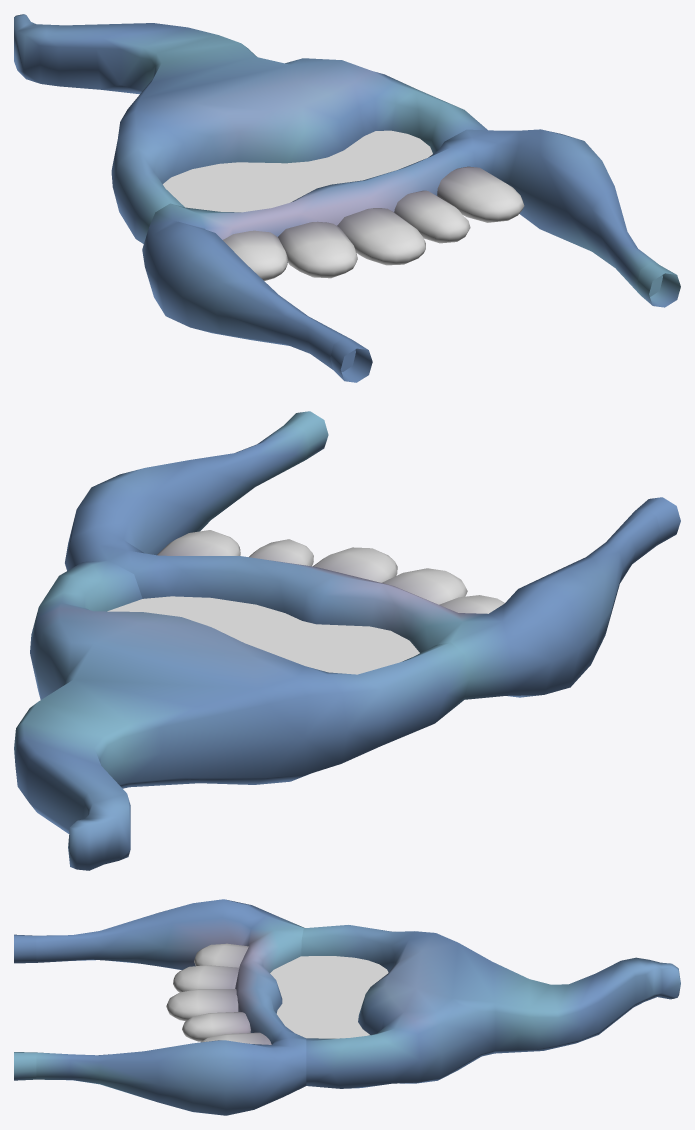
Rendered from GhostEntrance.fbx.
3 views of the same model, one above another, from view 1: azimuth 30°, elevation 25°; view 2: azimuth 150°, elevation 25°; view 3: azimuth 270°, elevation 25° (orthographic). The views are drawn at different scales.
Parts seen in each view (by area): view 1: GhostEntrance, GhostEyePlane; view 2: GhostEntrance, GhostEyePlane; view 3: GhostEntrance, GhostEyePlane.
Boxes of the visible parts, x1,y1,x2,y2 form: GhostEntrance: [14, 14, 680, 382]; GhostEyePlane: [163, 130, 432, 212]; GhostEntrance: [14, 411, 680, 870]; GhostEyePlane: [107, 596, 419, 674]; GhostEntrance: [14, 899, 680, 1115]; GhostEyePlane: [270, 956, 388, 1038].
Bounding box in the file's own units: 290 × 61.91 × 494.
